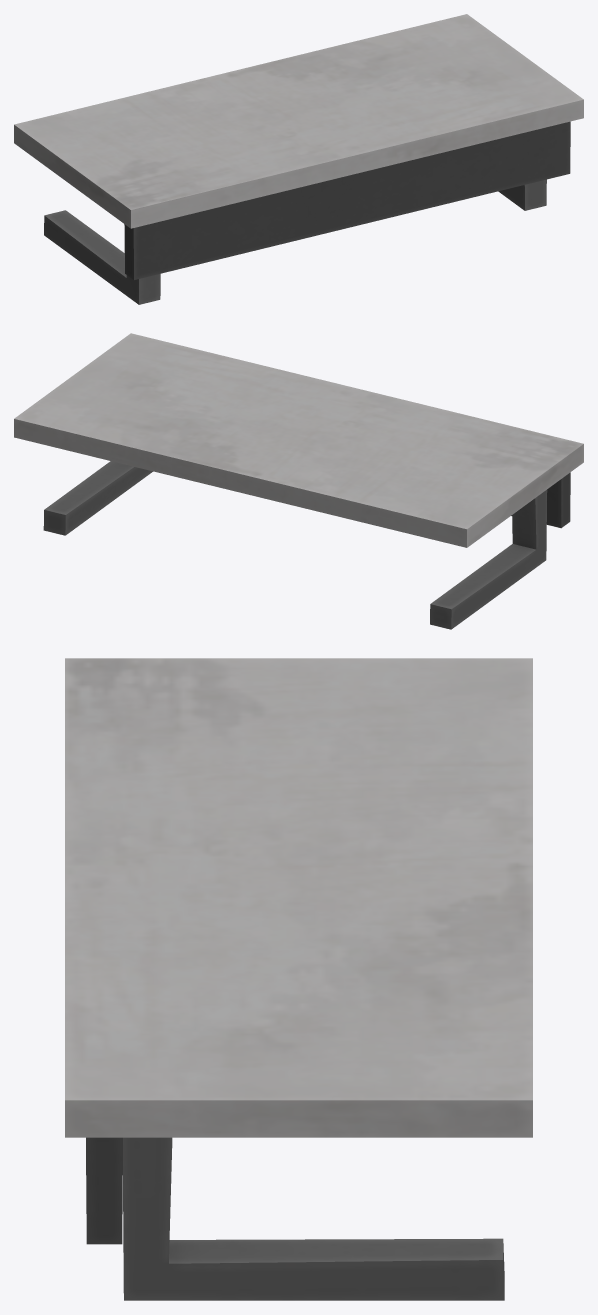
File: Pfb_Table__6.fbx
The picture shows the model from 3 angles, top to bottom: view 1: azimuth 30°, elevation 25°; view 2: azimuth 150°, elevation 25°; view 3: azimuth 270°, elevation 25°; orthographic projection. The views are drawn at different scales.
Visible parts, largest first — view 1: Mat_Table_01; view 2: Mat_Table_01; view 3: Mat_Table_01.
Boxes of the visible parts, <box> form: Mat_Table_01: <box>14,14,583,304</box>; Mat_Table_01: <box>14,333,583,629</box>; Mat_Table_01: <box>65,658,532,1300</box>.
Bounding box in the file's own units: 2.78 × 0.6523 × 1.24.
1 material, 1 textured.
